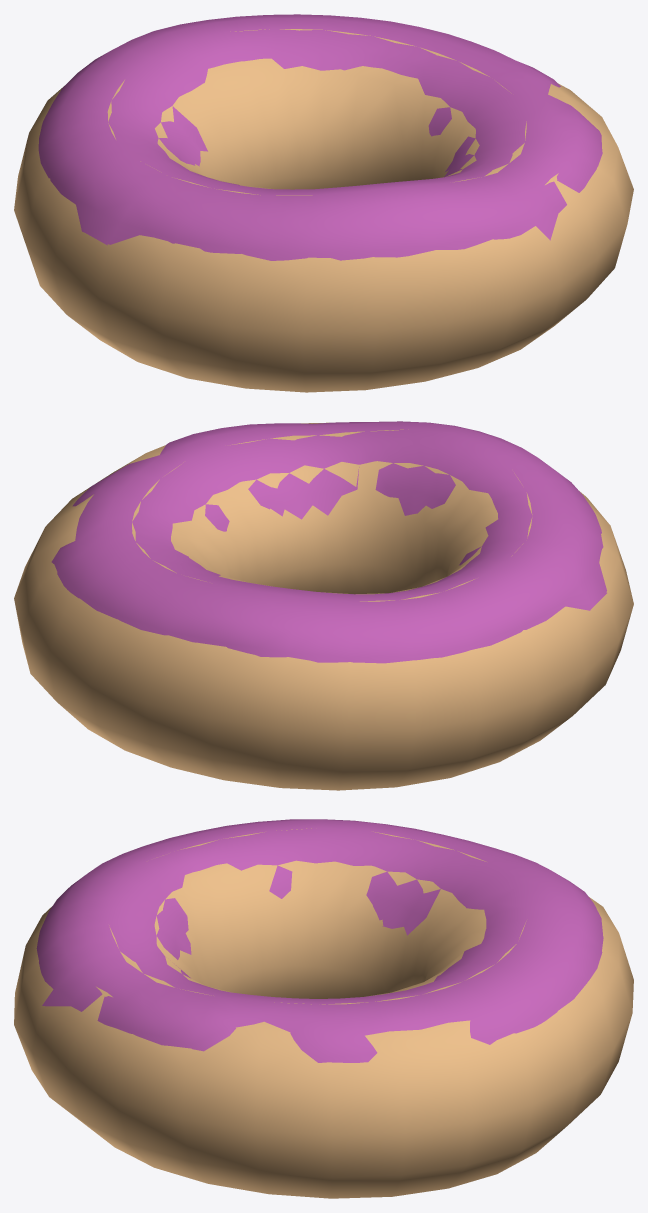
File: donut_2.glb
The picture shows the model from 3 angles, top to bottom: view 1: azimuth 30°, elevation 25°; view 2: azimuth 150°, elevation 25°; view 3: azimuth 270°, elevation 25°; orthographic projection.
Parts seen in each view (by area): view 1: donut, icing; view 2: donut, icing; view 3: donut, icing.
Boxes of the visible parts, left/top/right/bottom form: donut: left=14, top=29, right=633, bottom=392; icing: left=38, top=14, right=602, bottom=260; donut: left=14, top=422, right=633, bottom=790; icing: left=51, top=421, right=606, bottom=663; donut: left=14, top=828, right=633, bottom=1198; icing: left=36, top=819, right=603, bottom=1062.
Bounding box in the file's own units: 0.0905 × 0.0317 × 0.0908.
